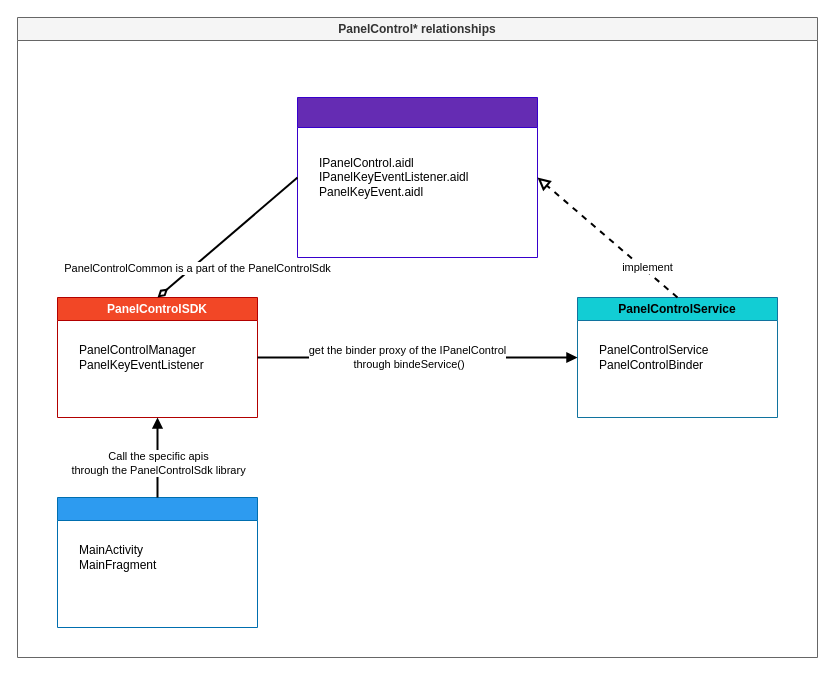
The diagram is 835 pixels wide and 675 high, and some of its shapes have lost their labels. Here are the shapes that lost their labels. From the top down, the box of each, then its label:
(296, 96, 538, 258): PanelControlCommon (Declare some apis in the form of AIDL)
(56, 496, 258, 628): PanelControlDemo
